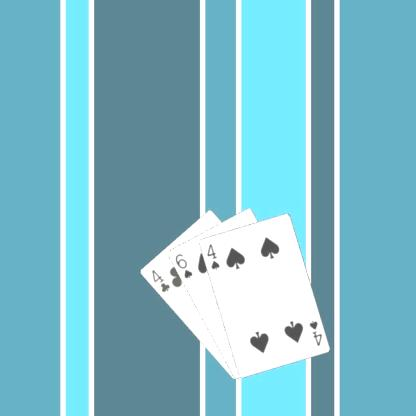4C: (148, 267, 172, 294)
4S: (203, 241, 221, 271), (306, 318, 323, 348)
6S: (172, 251, 194, 280)
